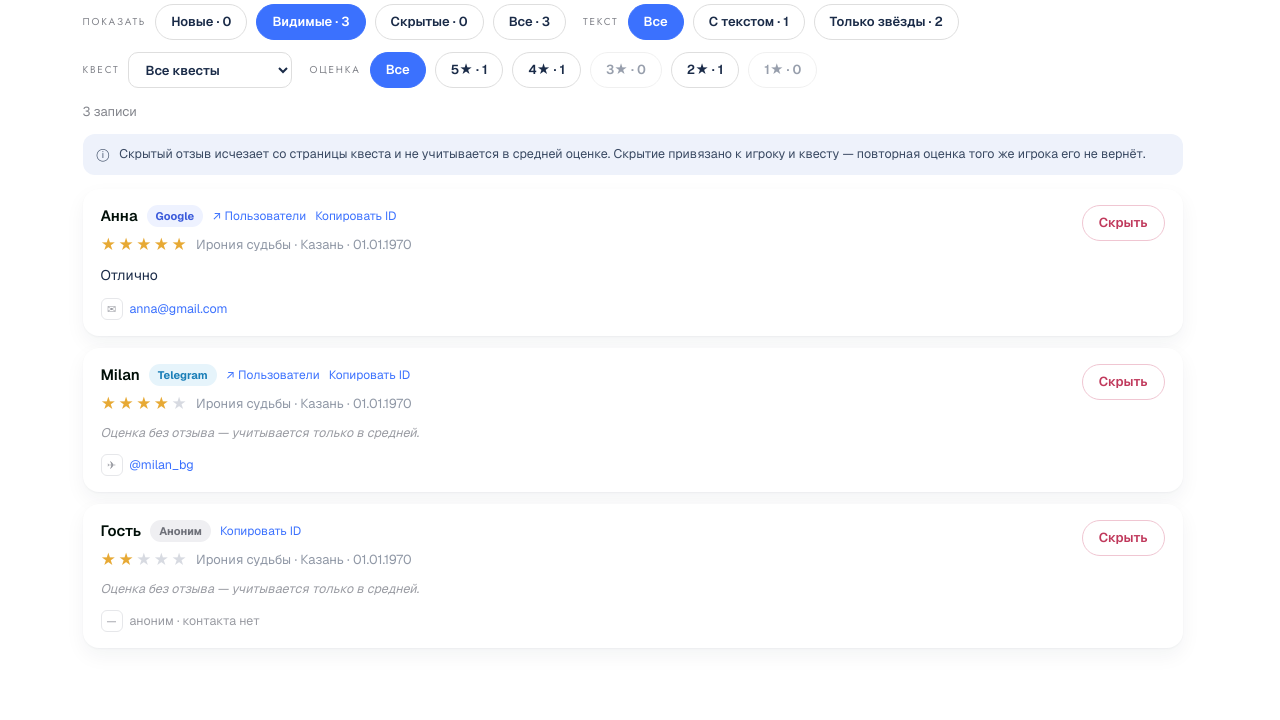
Test: AdminReviewsPage › hides a review after a before→after confirm and drops it from view
The image size is (1280, 720).
(page scrolled)
Expected: the text "Отлично" is shown, [100,266,158,284]
Newest-first ordering → the last «Скрыть» is the oldest, the 2★ anonymous rating.
Click the button "Скрыть" in the row of "Гость" at [1123, 538], box [1082,520,1164,556]
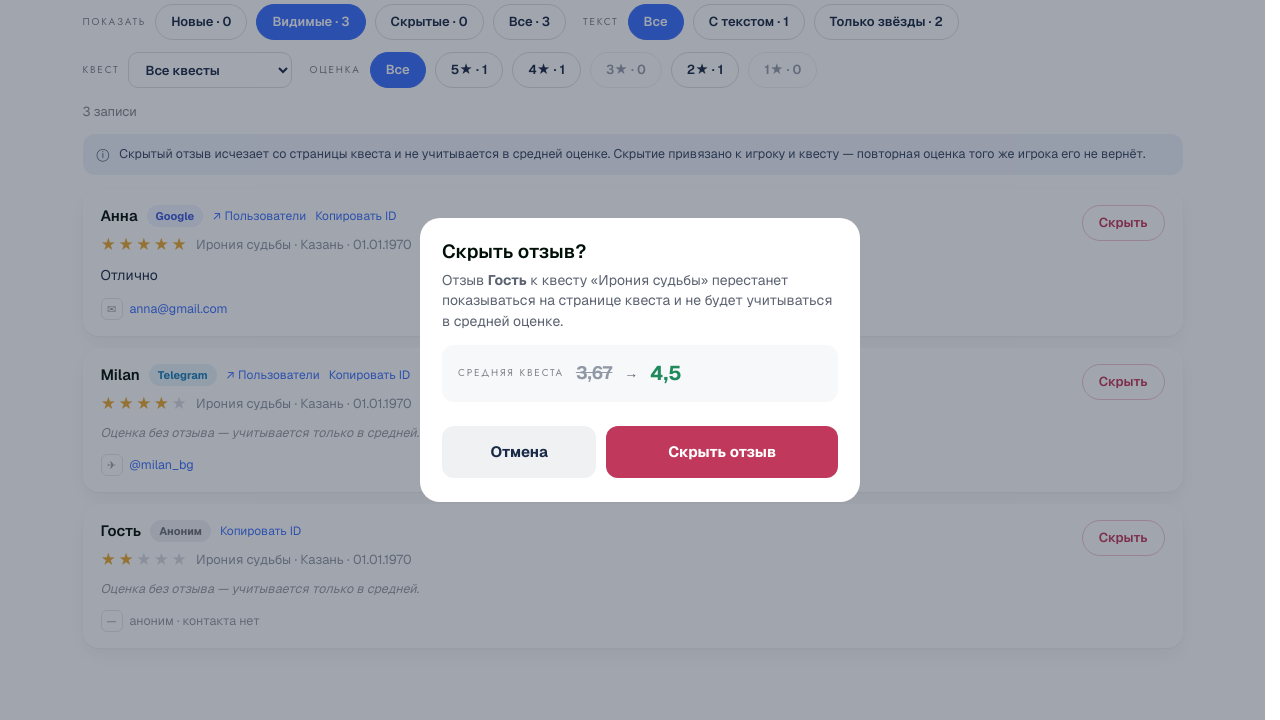
Now the text "Скрыть отзыв?" is shown, box [442,239,586,264]
Now the text "3,67" is shown, box [576,360,612,386]
Now the text "4,5" is shown, box [650,359,682,388]
Click the button "Скрыть отзыв" at [722, 452], box [606,426,838,478]
(page scrolled)
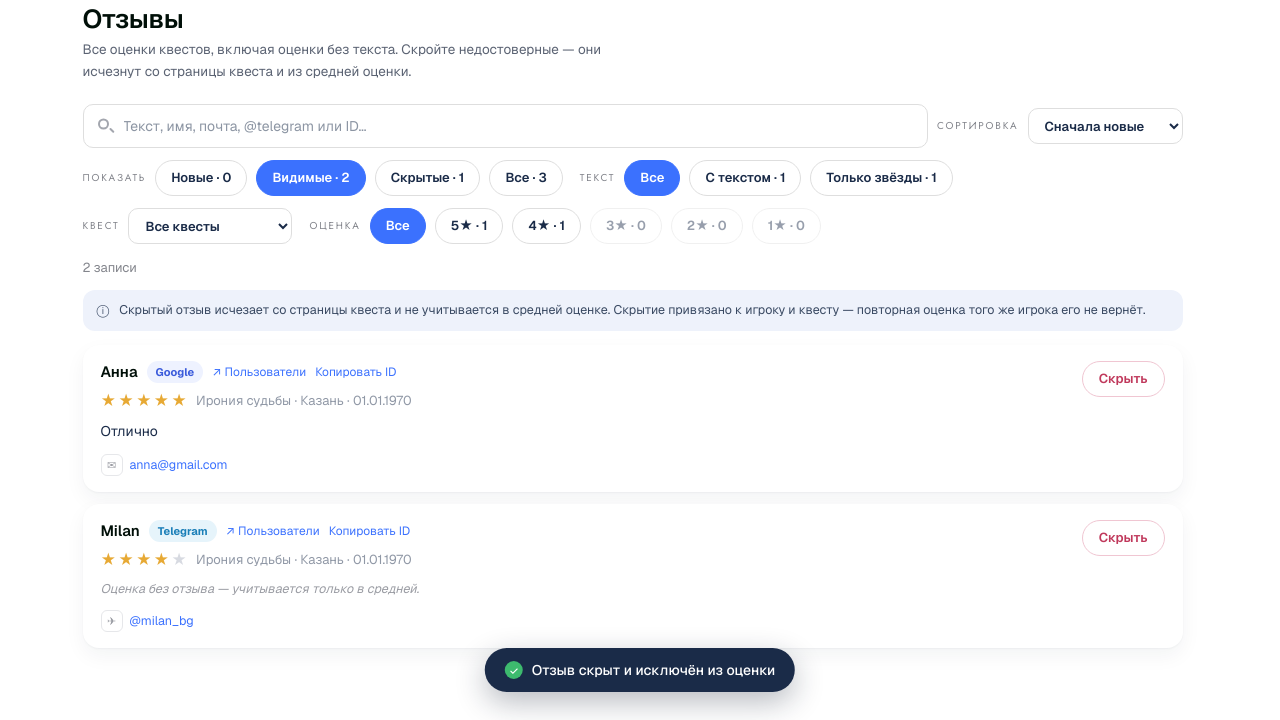
Now the button "Скрытые · 1" is shown, box [375,160,480,196]
Now the text "2 записи" is shown, box [82,258,137,278]
